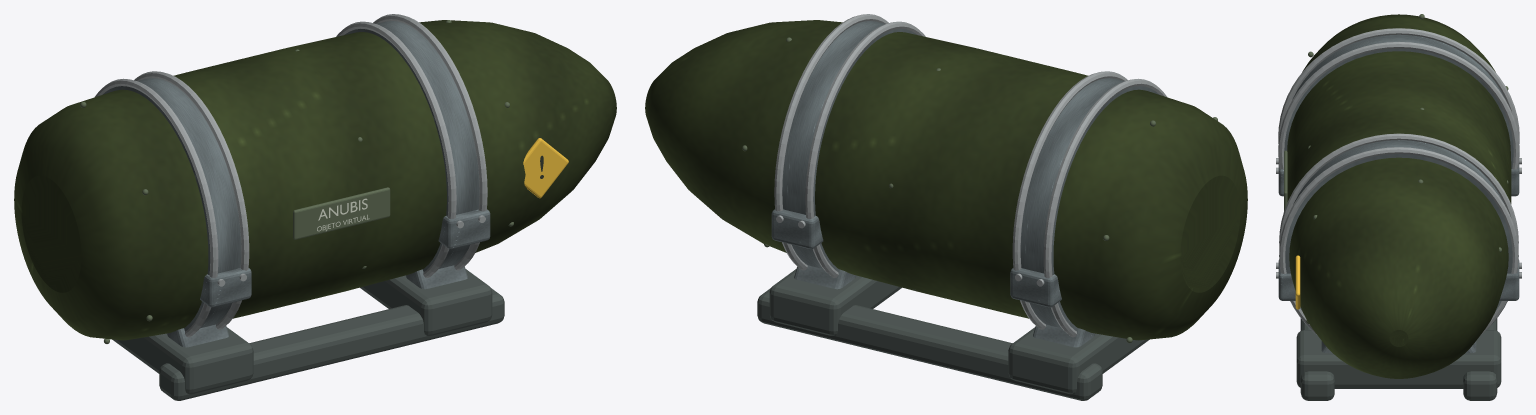
File: artefacto-virtual.glb
3 renders of one model, left to right at view 1: azimuth 30°, elevation 25°; view 2: azimuth 150°, elevation 25°; view 3: azimuth 270°, elevation 25°, orthographic. The views are drawn at different scales.
Visible parts, largest first — view 1: Pintura oliva gastada, Soporte grafito, Aros de acero satinado, Metal pulido, Ribete verde oscuro, Amarillo de identificación; view 2: Pintura oliva gastada, Soporte grafito, Aros de acero satinado, Metal pulido; view 3: Pintura oliva gastada, Metal pulido, Aros de acero satinado, Soporte grafito, Ribete verde oscuro, Amarillo de identificación.
Boxes of the visible parts, left/top/right/bottom form: Pintura oliva gastada: left=14, top=20, right=616, bottom=340; Soporte grafito: left=112, top=269, right=504, bottom=400; Aros de acero satinado: left=102, top=21, right=490, bottom=347; Metal pulido: left=95, top=14, right=487, bottom=337; Ribete verde oscuro: left=80, top=20, right=513, bottom=343; Amarillo de identificación: left=523, top=138, right=568, bottom=198; Pintura oliva gastada: left=645, top=20, right=1247, bottom=340; Soporte grafito: left=757, top=269, right=1149, bottom=400; Aros de acero satinado: left=771, top=21, right=1159, bottom=347; Metal pulido: left=774, top=14, right=1166, bottom=337; Pintura oliva gastada: left=1287, top=14, right=1511, bottom=378; Metal pulido: left=1276, top=28, right=1521, bottom=334; Aros de acero satinado: left=1278, top=34, right=1519, bottom=353; Soporte grafito: left=1296, top=318, right=1501, bottom=400; Ribete verde oscuro: left=1284, top=14, right=1508, bottom=323; Amarillo de identificación: left=1295, top=255, right=1300, bottom=309.
Size of the model in its own units: 0.61 by 0.283 by 0.2606.
8 materials, 2 textured.
